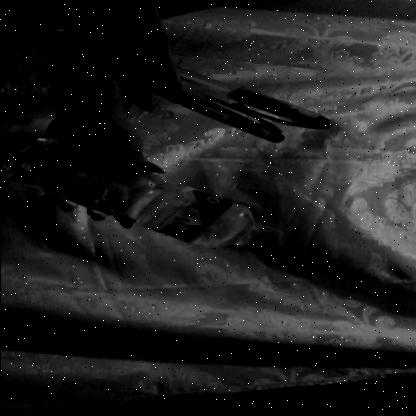Plastic Bottle: (6, 154, 295, 262)
